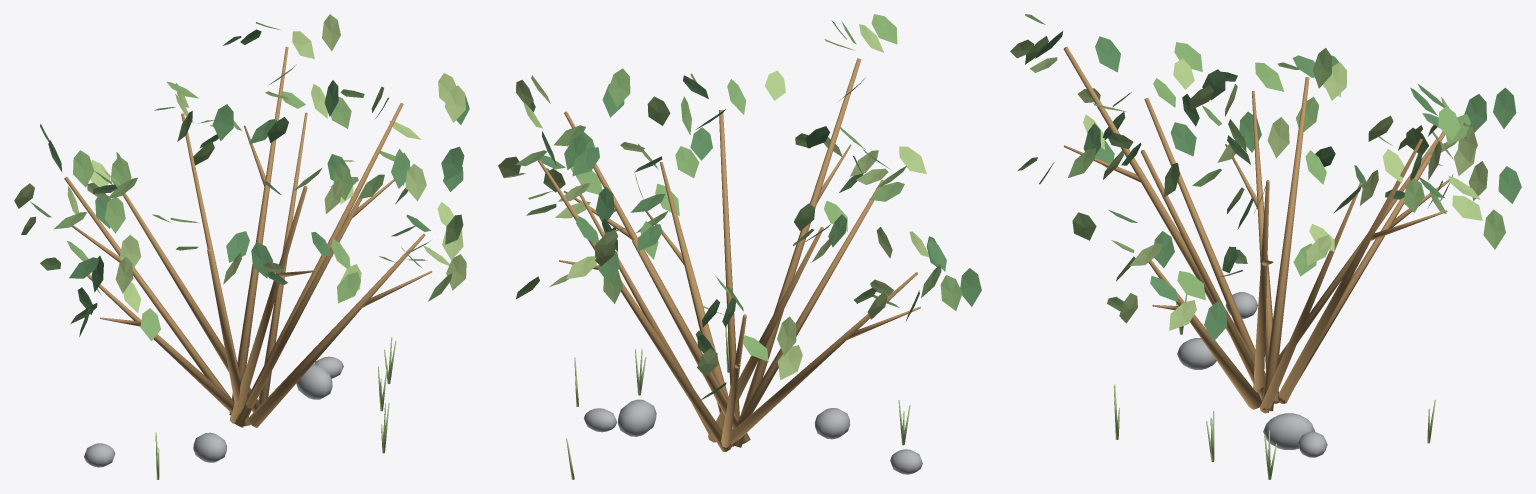
File: green_bush_a.glb
The picture shows the model from 3 angles, left to right: view 1: azimuth 30°, elevation 25°; view 2: azimuth 150°, elevation 25°; view 3: azimuth 270°, elevation 25°; orthographic projection. The views are drawn at different scales.
Visible parts, largest first — view 1: green_bush_a_stem_10, green_bush_a_stem_2, green_bush_a_stem_8, green_bush_a_stem_0, green_bush_a_stem_4, green_bush_a_stem_5, green_bush_a_stem_9, green_bush_a_stem_1, green_bush_a_stem_6, green_bush_a_stem_7, green_bush_a_stem_3, bush_ground_rock_2 (+12 smaller); view 2: green_bush_a_stem_8, green_bush_a_stem_2, green_bush_a_stem_6, green_bush_a_stem_7, green_bush_a_stem_9, green_bush_a_stem_10, green_bush_a_stem_5, green_bush_a_stem_0, bush_ground_rock_2, green_bush_a_stem_3, green_bush_a_stem_4, green_bush_a_stem_1 (+11 smaller); view 3: green_bush_a_stem_5, green_bush_a_stem_2, green_bush_a_stem_8, green_bush_a_stem_7, green_bush_a_stem_1, green_bush_a_stem_9, green_bush_a_stem_0, green_bush_a_stem_10, green_bush_a_stem_6, green_bush_a_stem_4, bush_ground_rock_2, green_bush_a_stem_3 (+14 smaller).
Part boxes in pixels (<box>): green_bush_a_stem_10: <box>249,233,425,427</box>; green_bush_a_stem_2: <box>229,47,288,415</box>; green_bush_a_stem_8: <box>229,186,307,423</box>; green_bush_a_stem_0: <box>234,103,403,427</box>; green_bush_a_stem_4: <box>64,177,231,398</box>; green_bush_a_stem_5: <box>122,193,260,412</box>; green_bush_a_stem_9: <box>245,184,365,408</box>; green_bush_a_stem_1: <box>258,112,307,404</box>; green_bush_a_stem_6: <box>87,274,234,412</box>; green_bush_a_stem_7: <box>207,248,243,408</box>; green_bush_a_stem_3: <box>181,113,250,426</box>; bush_ground_rock_2: <box>296,364,332,399</box>; green_bush_a_stem_8: <box>732,58,861,447</box>; green_bush_a_stem_2: <box>538,159,731,451</box>; green_bush_a_stem_6: <box>730,272,917,445</box>; green_bush_a_stem_7: <box>731,180,883,446</box>; green_bush_a_stem_9: <box>719,110,739,418</box>; green_bush_a_stem_10: <box>660,162,731,429</box>; green_bush_a_stem_5: <box>708,227,823,442</box>; green_bush_a_stem_0: <box>564,111,750,444</box>; bush_ground_rock_2: <box>618,399,656,436</box>; green_bush_a_stem_3: <box>632,239,737,429</box>; green_bush_a_stem_4: <box>721,314,746,447</box>; green_bush_a_stem_1: <box>575,186,710,434</box>; green_bush_a_stem_5: <box>1261,77,1309,411</box>; green_bush_a_stem_2: <box>1278,139,1422,403</box>; green_bush_a_stem_8: <box>1063,47,1254,365</box>; green_bush_a_stem_7: <box>1144,98,1265,374</box>; green_bush_a_stem_1: <box>1260,182,1362,413</box>; green_bush_a_stem_9: <box>1141,150,1263,400</box>; green_bush_a_stem_0: <box>1253,180,1269,392</box>; green_bush_a_stem_10: <box>1148,260,1261,409</box>; green_bush_a_stem_6: <box>1252,91,1279,403</box>; green_bush_a_stem_4: <box>1278,131,1445,403</box>; bush_ground_rock_2: <box>1263,413,1315,449</box>; green_bush_a_stem_3: <box>1256,139,1438,396</box>.
Bounding box in the file's own units: 1.36 × 1.07 × 1.32.
